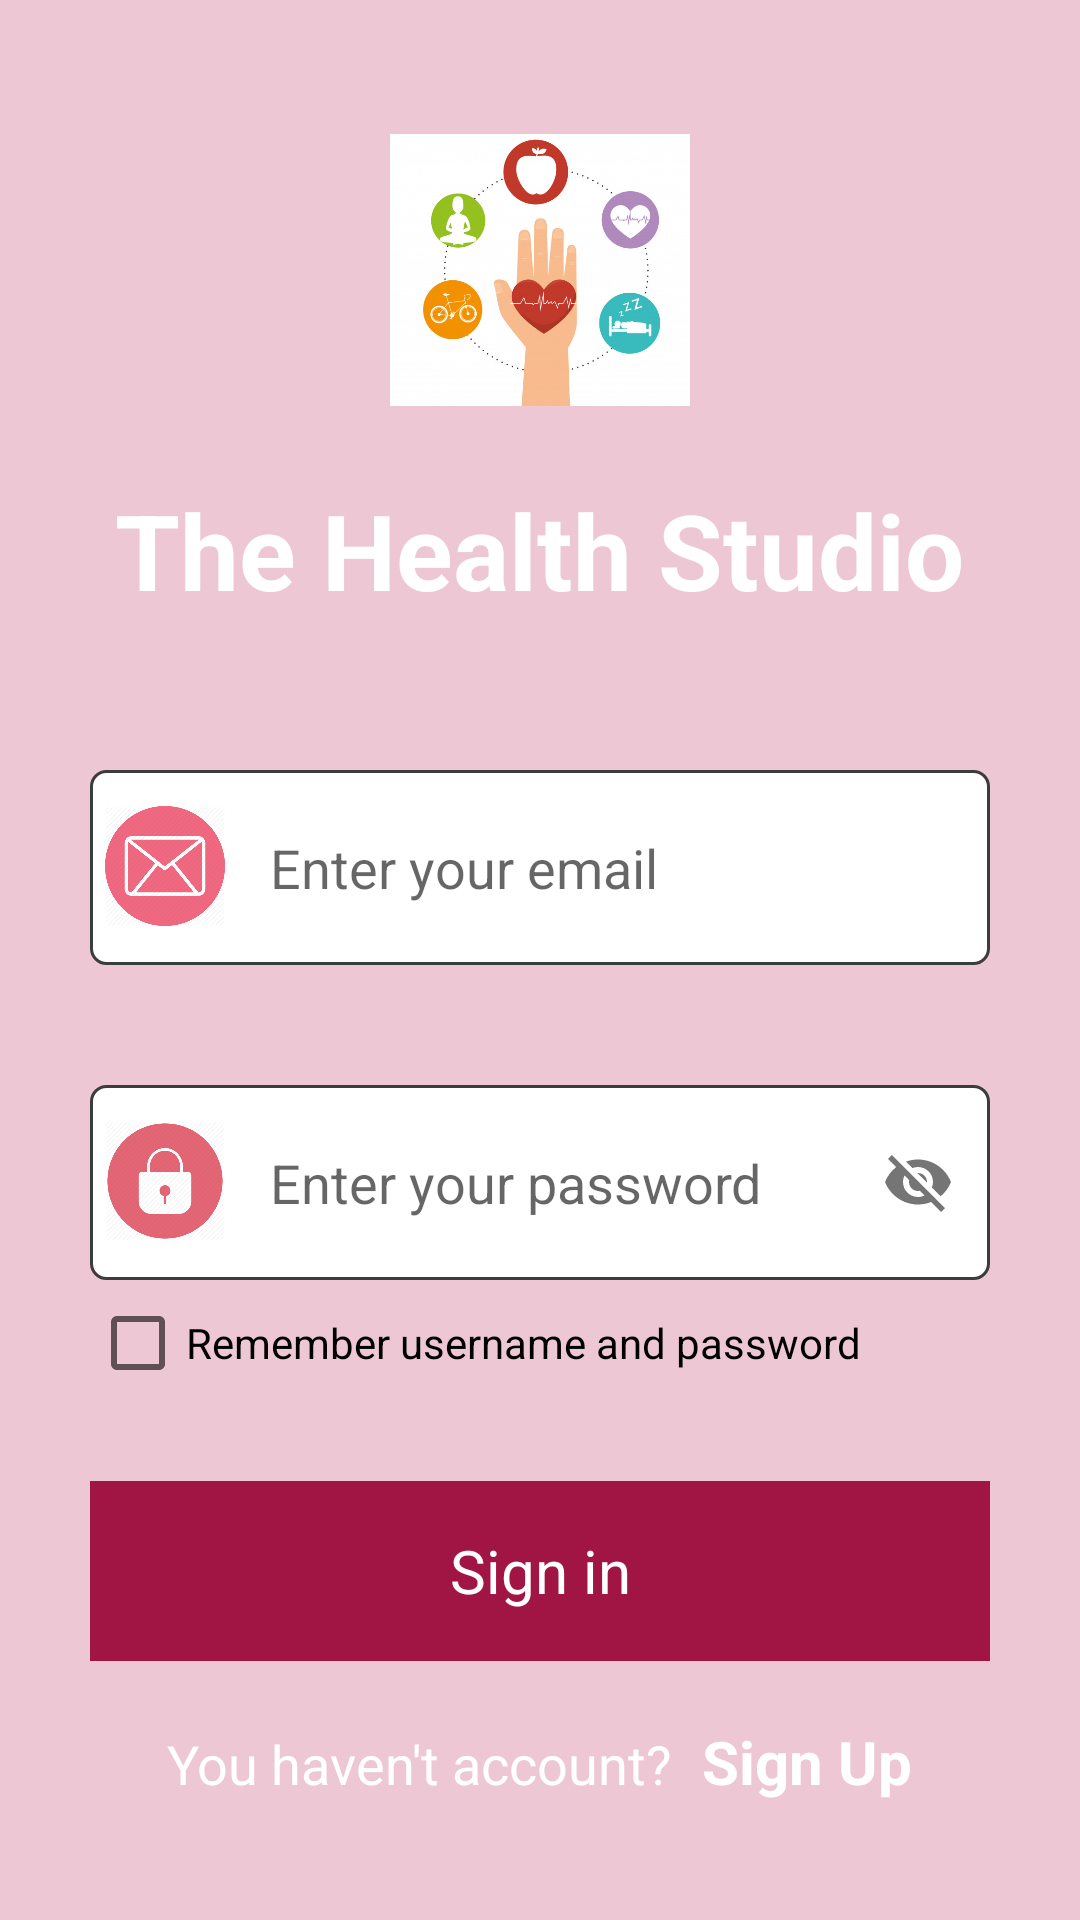

Icon click points for this 1080px×1920px phone screenshot, format (x=x, y=y):
healthy: (x=540, y=270)
